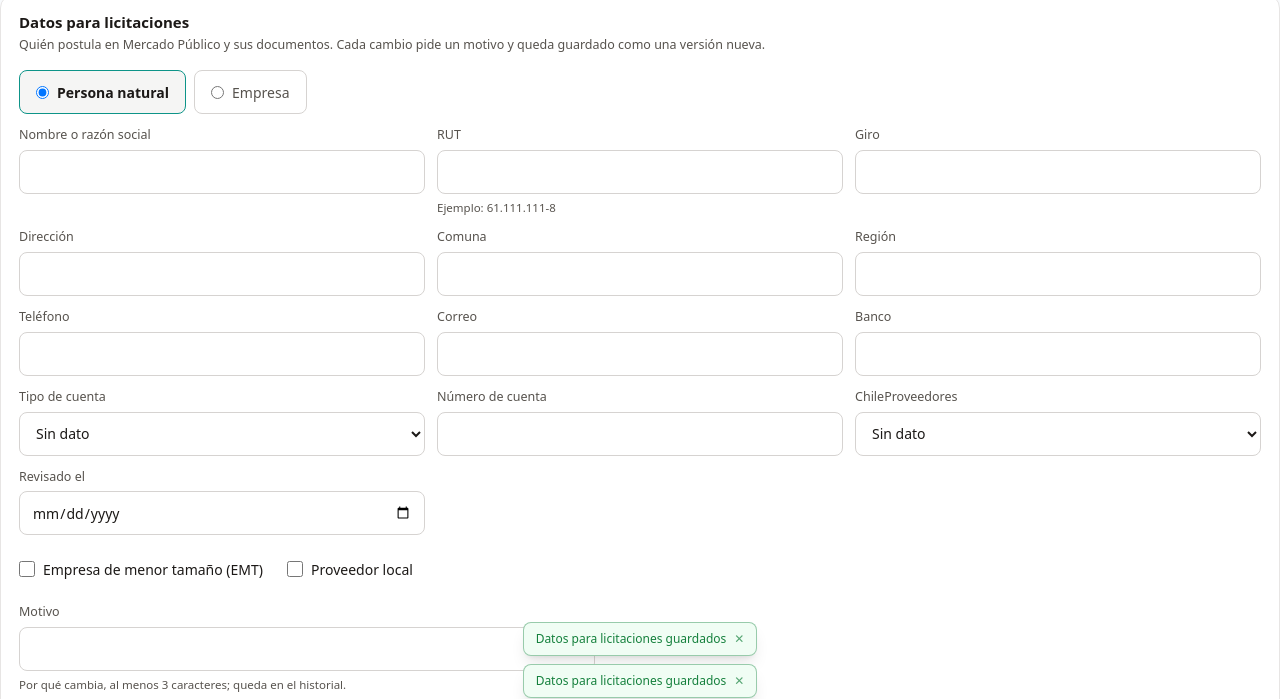
BidderPreferences › says when someone else changed the data (409 bidder_profile_changed)
expect the field labelled "RUT" is shown: met, box [437,150,843,194]
Type "Oferente Ejemplo" into the field labelled "Nombre o razón social" at (222, 172), box [19,150,425,194]
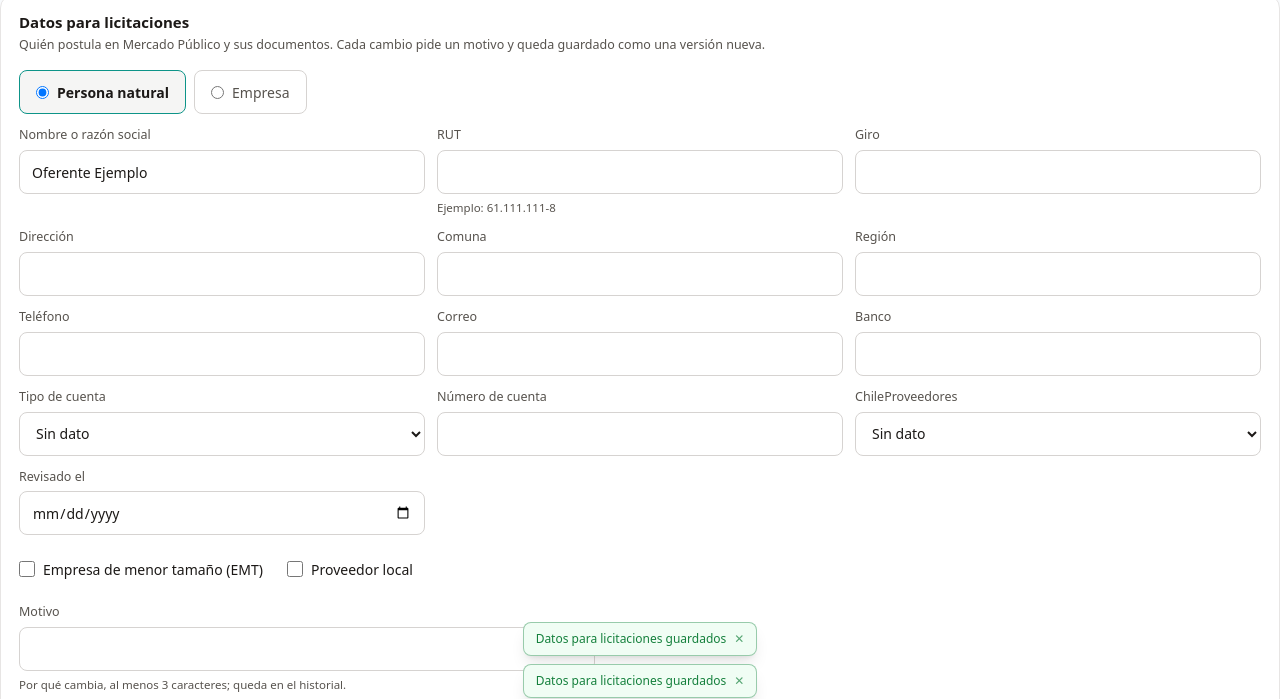
Type "61.111.111-8" into the field labelled "RUT" at (640, 172), box [437,150,843,194]
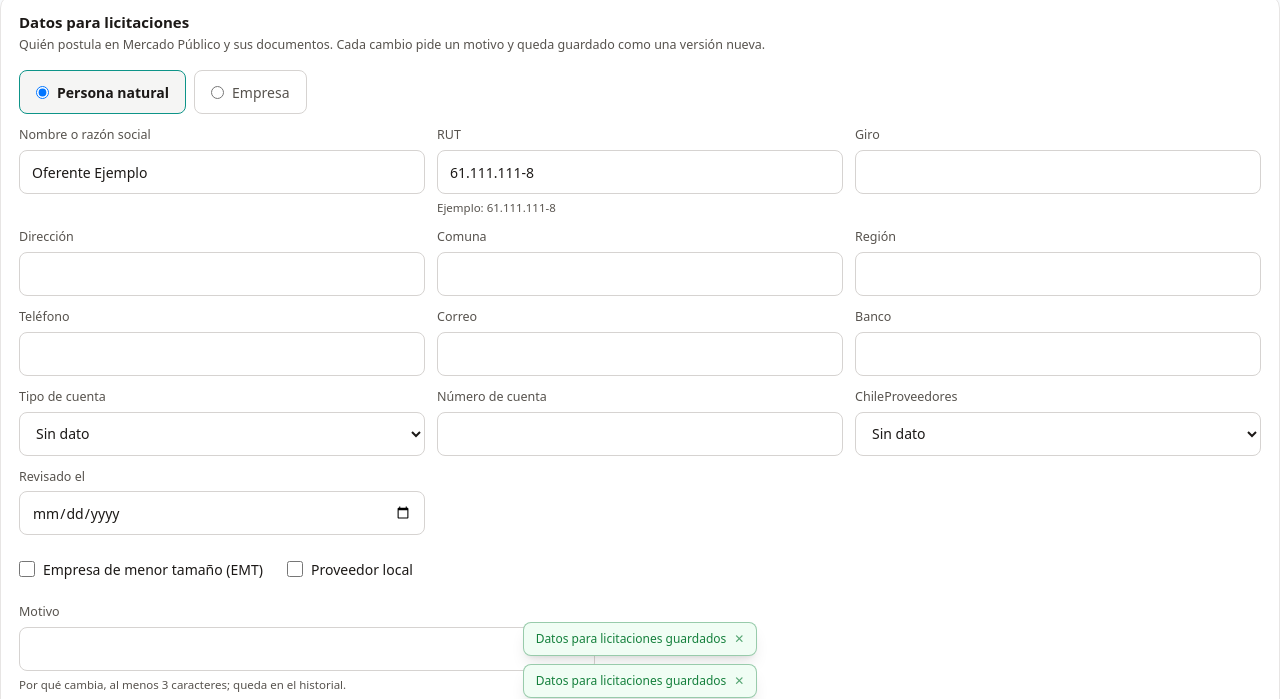
Type "Carga inicial" into the field labelled "Motivo" at (307, 649), box [19,627,595,671]
(page scrolled)
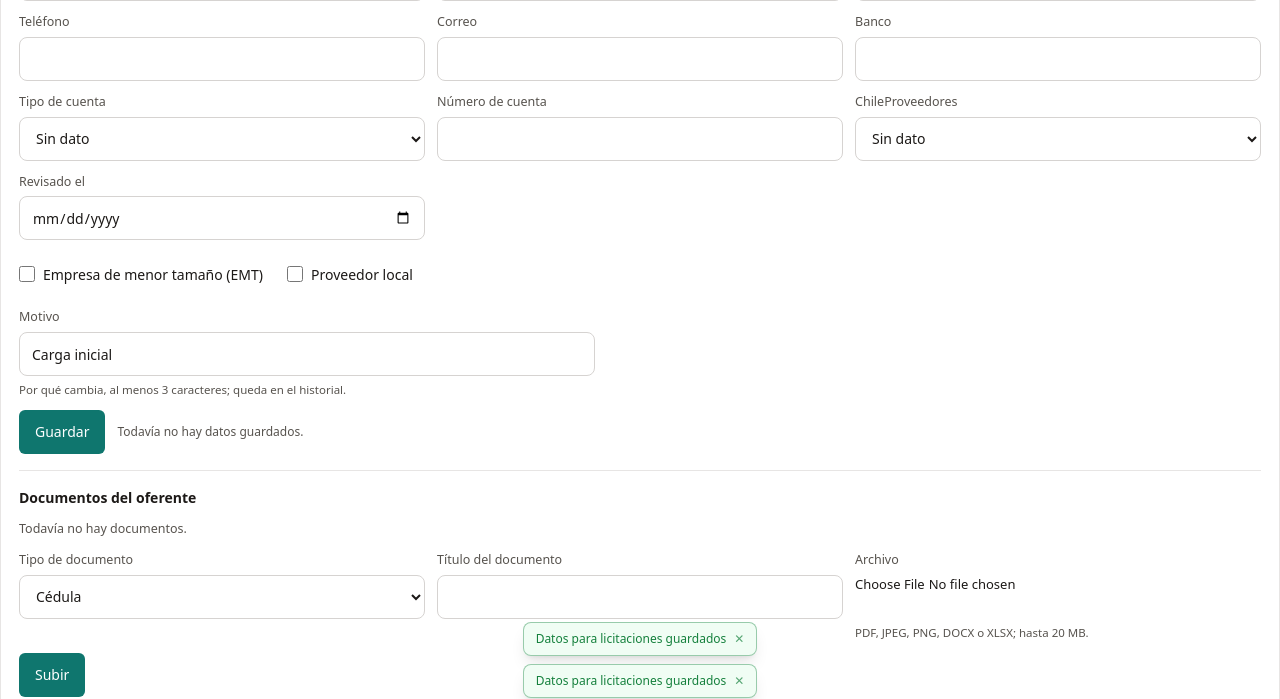
Click the button "Guardar" at (62, 432), box [19,410,106,454]
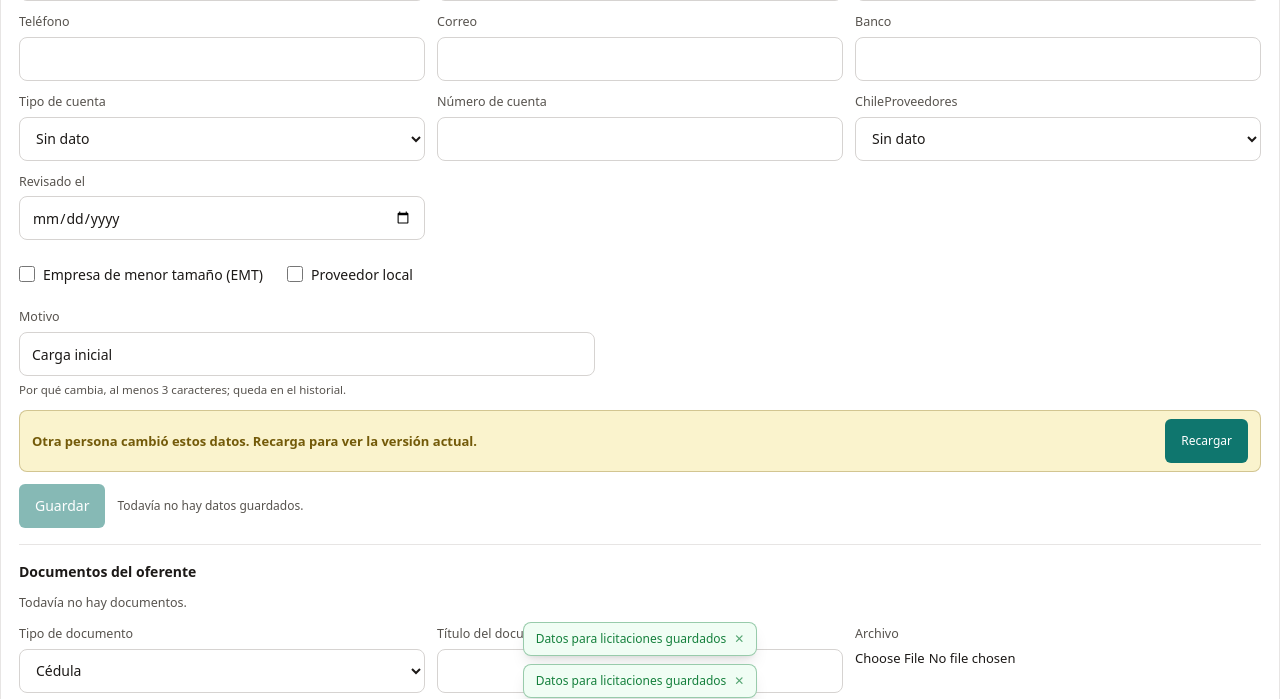
expect the text "Otra persona cambió estos datos. Recarga para ver la versión actual." is shown: met, box [32,432,477,451]
expect the button "Guardar" is disabled: met, box [19,484,106,528]
